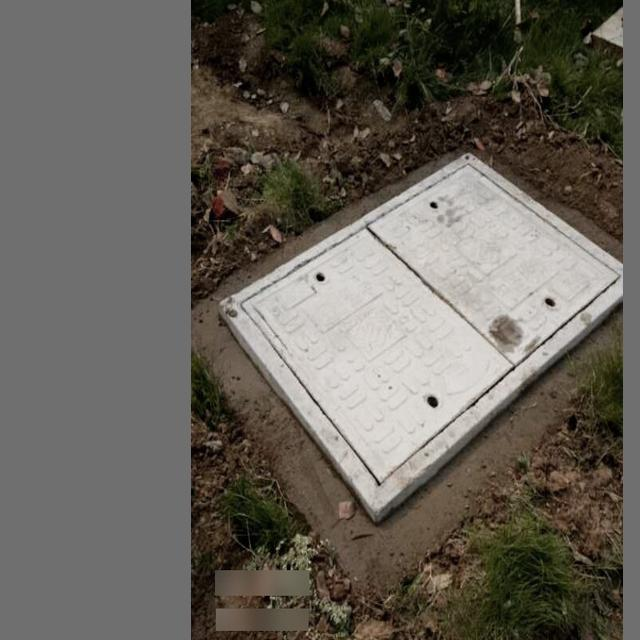good: (216, 153, 623, 525)
